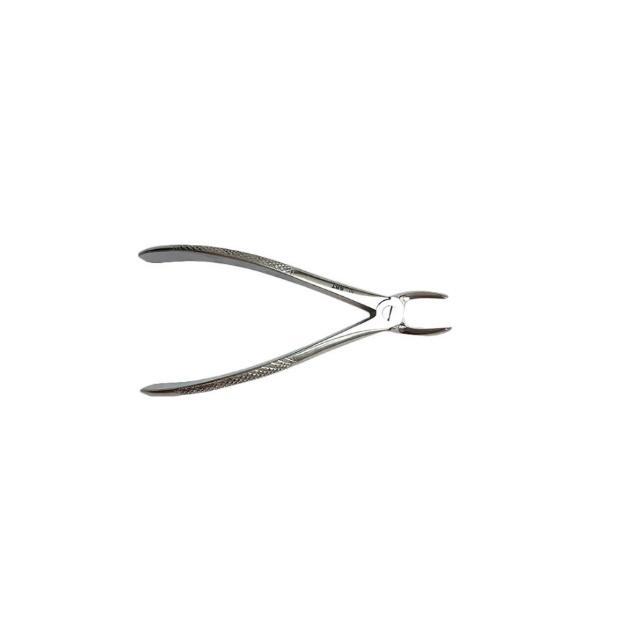forceps: (138, 244, 454, 398)
